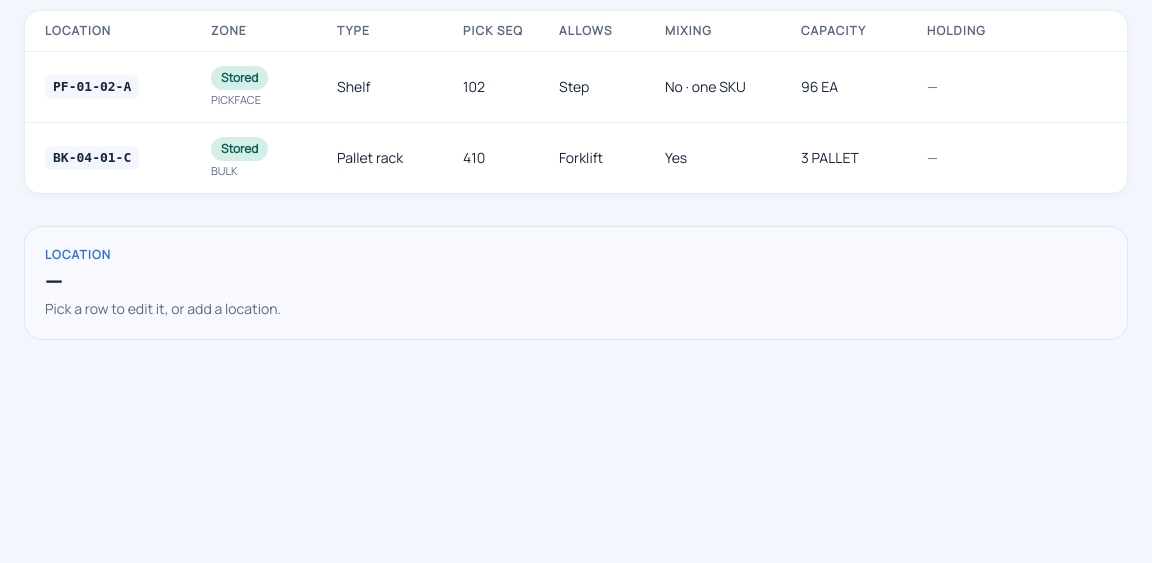
Locations › says so in gold when the API refuses a label
This screenshot has width=1152, height=563.
Click the text "BK-04-01-C": (92, 158) top-left (45, 146), bottom-right (139, 170)
(page scrolled)
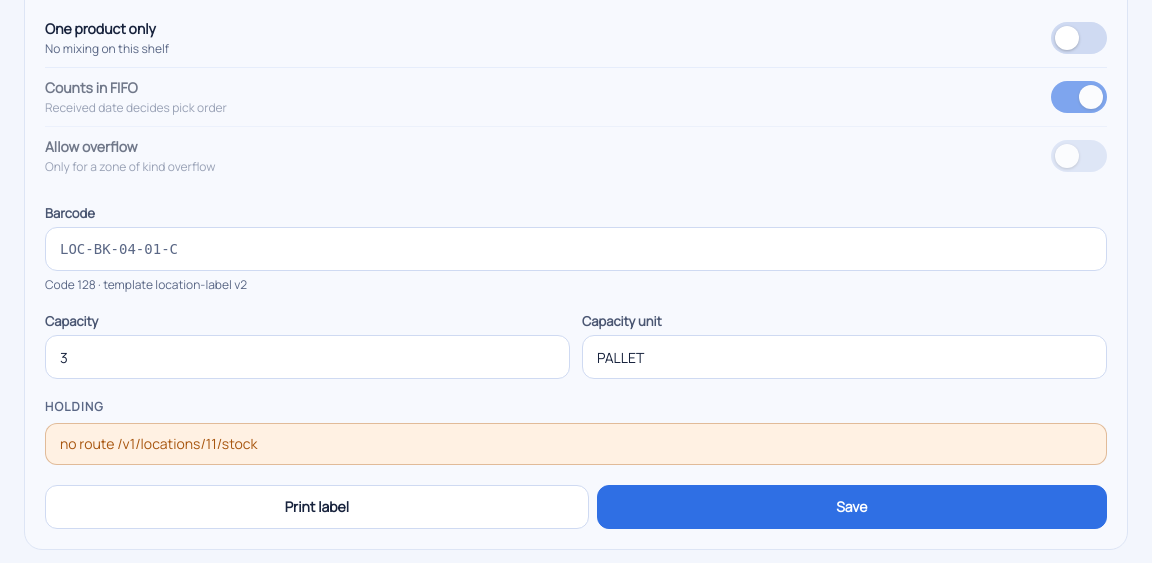
Click the button "Print label": (317, 507) top-left (45, 485), bottom-right (589, 529)
(page scrolled)
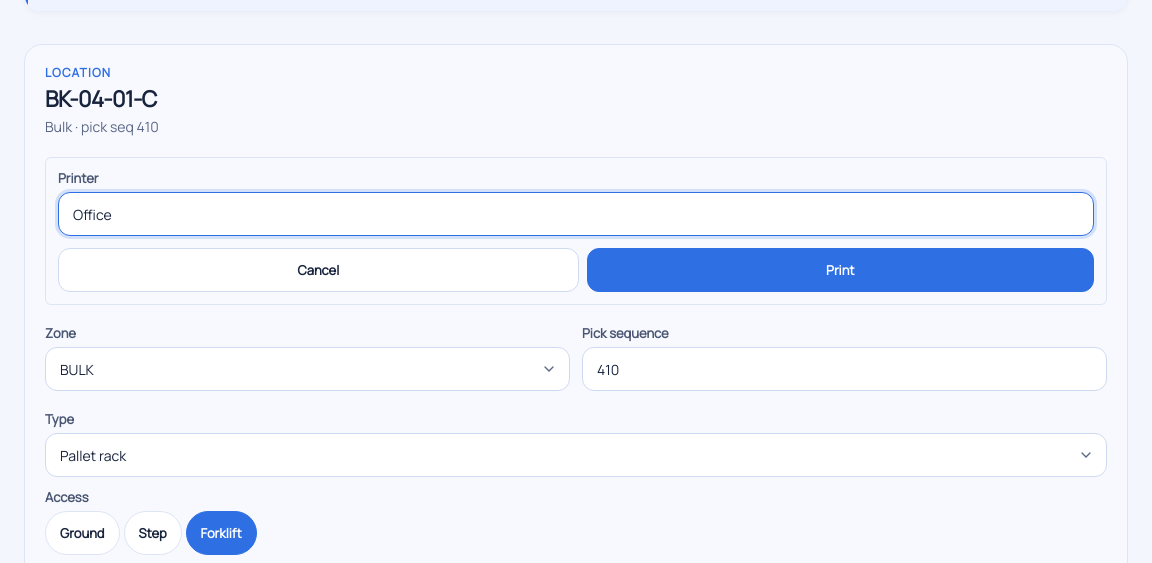
Click the button "Print": (840, 270) top-left (587, 248), bottom-right (1094, 292)
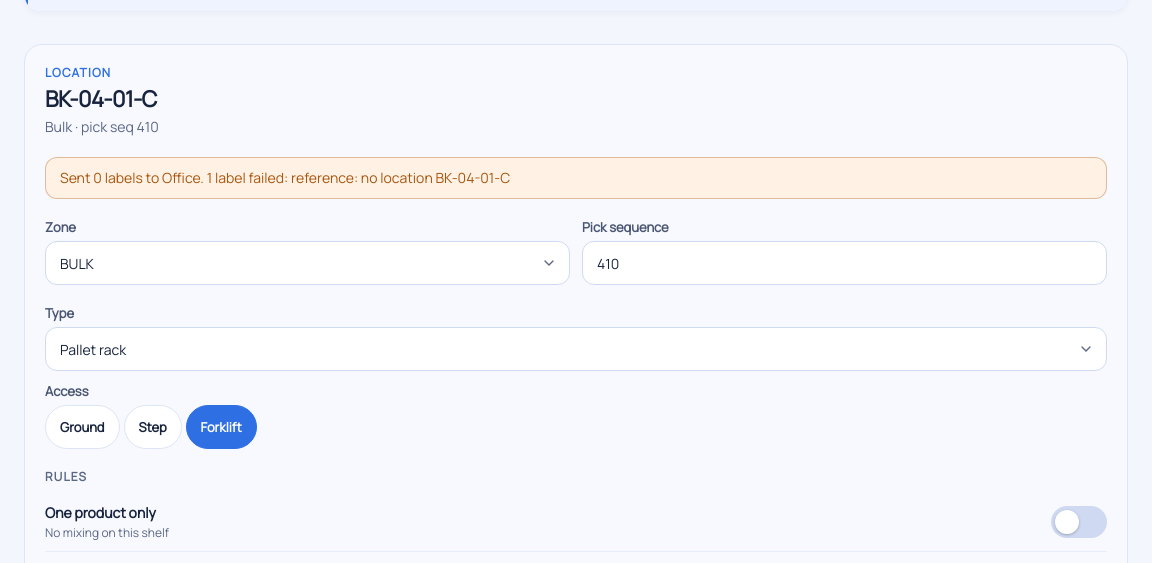
Expected: the text "no location BK-04-01-C" is shown, top-left (60, 168), bottom-right (510, 187)
